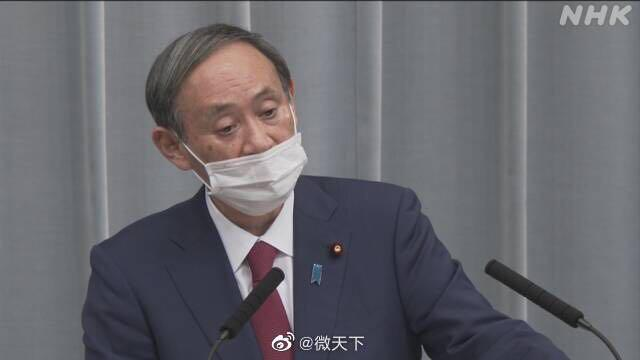WRONG: (198, 79, 300, 213)
